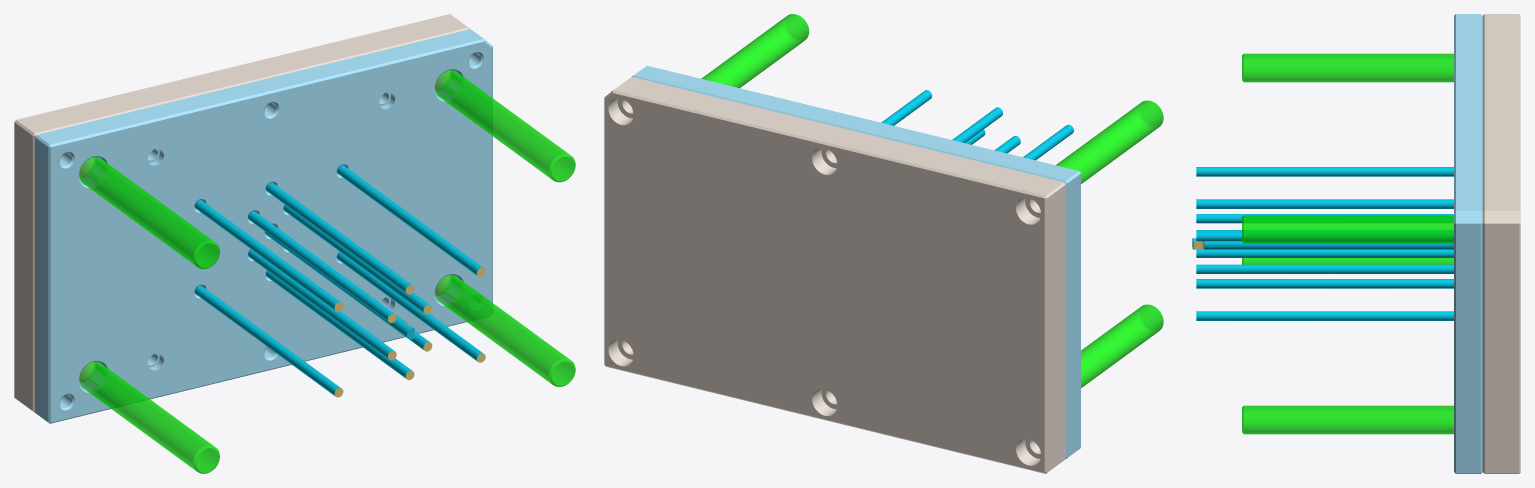
The model's file is push.glb.
The picture shows the model from 3 angles, left to right: view 1: azimuth 30°, elevation 25°; view 2: azimuth 150°, elevation 25°; view 3: azimuth 270°, elevation 25°; orthographic projection. The views are drawn at different scales.
Parts seen in each view (by area): view 1: cardcase_e_plate_057, cardcase_rpn_052 (×4), cardcase_f_plate_056, cardcase_ej_pin_068_072, cardcase_ej_pin_068_076, cardcase_ej_pin_068_073, cardcase_ej_pin_068_069, cardcase_ej_pin_068_074, cardcase_ej_pin_068_077, cardcase_ej_pin_068_070, cardcase_ej_pin_068_075, cardcase_ej_pin_068_071 (+1 smaller); view 2: cardcase_f_plate_056, cardcase_e_plate_057, cardcase_rpn_052 (×3), cardcase_ej_pin_068_073, cardcase_ej_pin_068_074; view 3: cardcase_rpn_052 (×4), cardcase_f_plate_056, cardcase_e_plate_057, cardcase_ej_pin_068_078, cardcase_ej_pin_068_074, cardcase_ej_pin_068_073, cardcase_ej_pin_068_071, cardcase_ej_pin_068_070, cardcase_ej_pin_068_069, cardcase_ej_pin_068_076, cardcase_ej_pin_068_077, cardcase_ej_pin_079.
Part boxes in pixels (x1,y1,x2,y2): cardcase_e_plate_057: (35, 29, 492, 423); cardcase_rpn_052 (×4): (79, 70, 575, 473); cardcase_f_plate_056: (14, 14, 469, 412); cardcase_ej_pin_068_072: (194, 285, 343, 397); cardcase_ej_pin_068_076: (248, 211, 396, 322); cardcase_ej_pin_068_073: (194, 200, 343, 311); cardcase_ej_pin_068_069: (337, 165, 485, 277); cardcase_ej_pin_068_074: (266, 182, 414, 294); cardcase_ej_pin_068_077: (248, 249, 396, 360); cardcase_ej_pin_068_070: (337, 252, 485, 362); cardcase_ej_pin_068_075: (283, 205, 432, 314); cardcase_ej_pin_068_071: (266, 270, 414, 379); cardcase_f_plate_056: (604, 77, 1065, 473); cardcase_e_plate_057: (632, 65, 1080, 458); cardcase_rpn_052 (×3): (701, 14, 1163, 387); cardcase_ej_pin_068_073: (1023, 124, 1073, 160); cardcase_ej_pin_068_074: (952, 107, 1002, 142); cardcase_rpn_052 (×4): (1242, 53, 1453, 434); cardcase_f_plate_056: (1482, 14, 1520, 473); cardcase_e_plate_057: (1454, 14, 1482, 473); cardcase_ej_pin_068_078: (1196, 264, 1453, 273); cardcase_ej_pin_068_074: (1196, 199, 1453, 208); cardcase_ej_pin_068_073: (1196, 167, 1453, 176); cardcase_ej_pin_068_071: (1196, 279, 1453, 288); cardcase_ej_pin_068_070: (1196, 311, 1453, 320); cardcase_ej_pin_068_069: (1196, 231, 1453, 241); cardcase_ej_pin_068_076: (1196, 214, 1453, 223); cardcase_ej_pin_068_077: (1196, 248, 1453, 257); cardcase_ej_pin_079: (1192, 238, 1453, 249).
Size of the model in its own units: 0.25 by 0.15 by 0.172.
